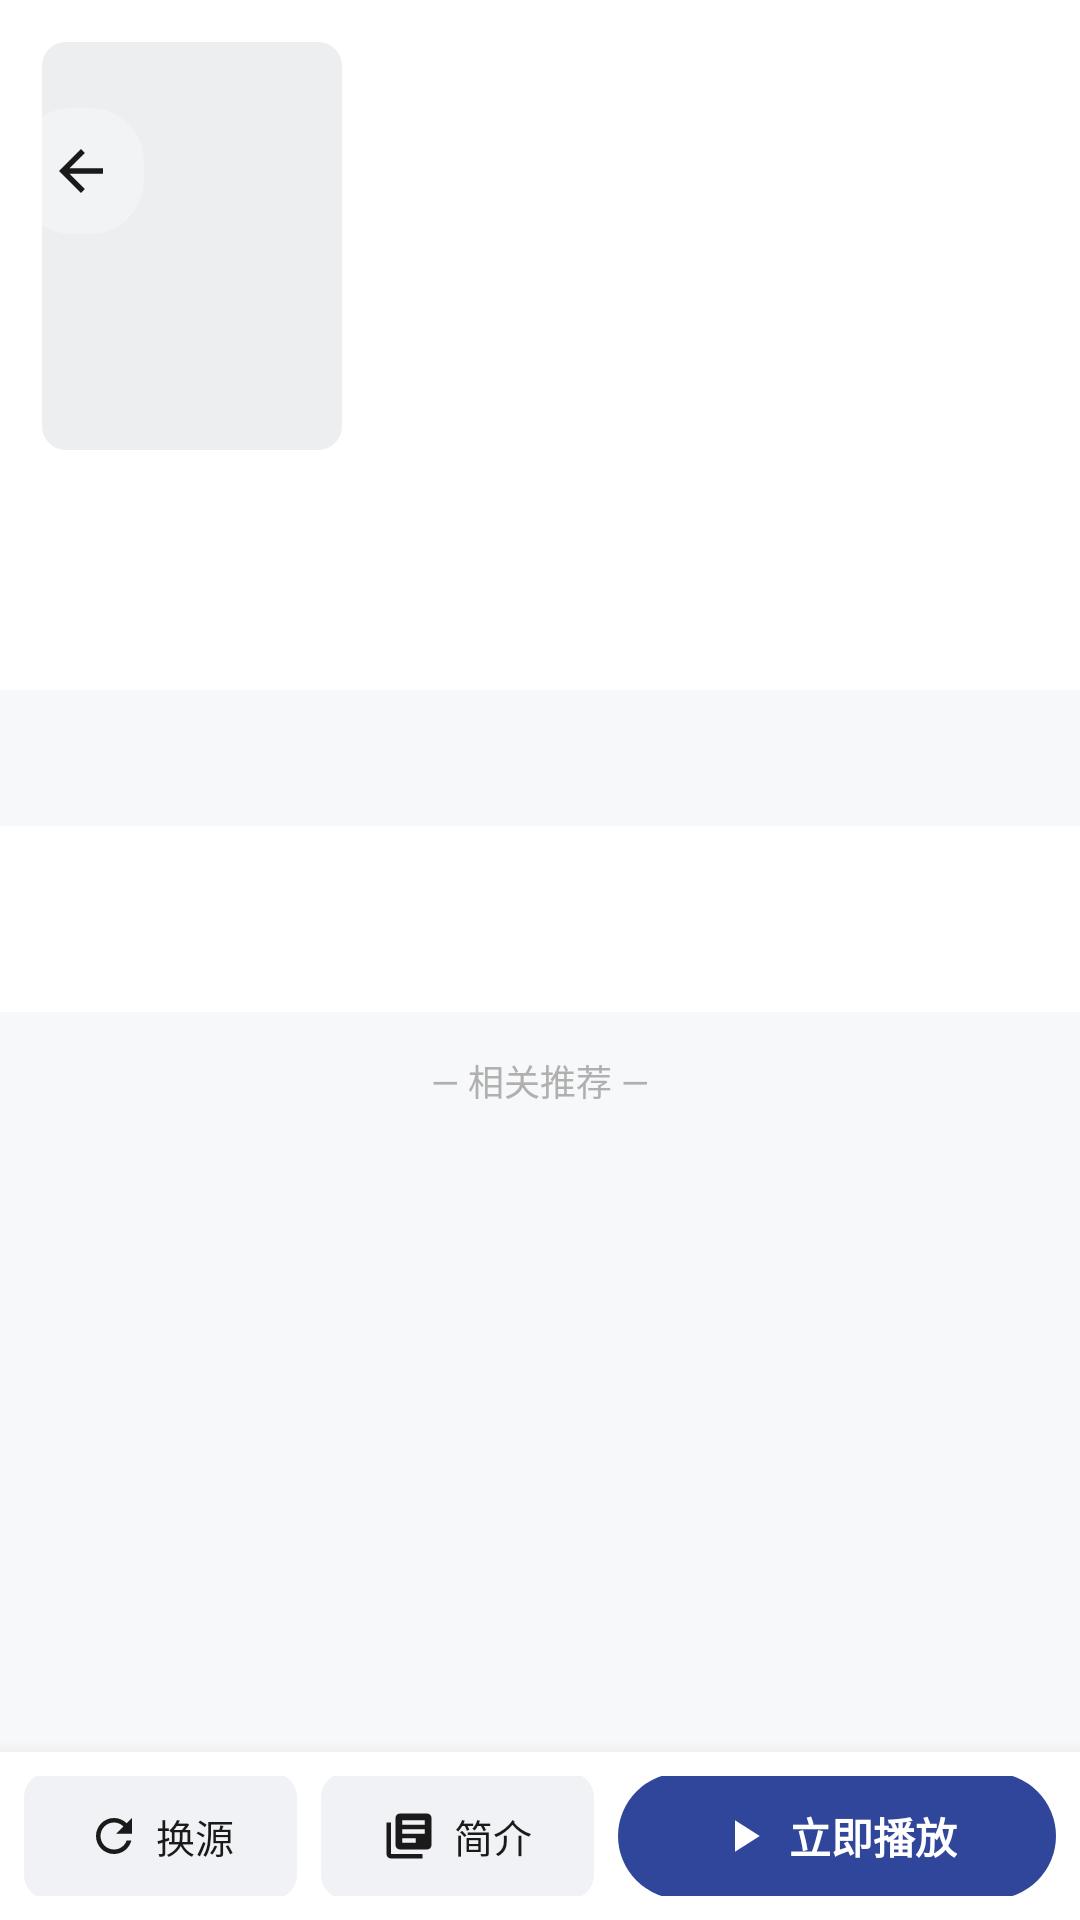

Locate icon controls on the screen. Image size 1080 × 1920, boxes as bbox=(x1, y1, x2, y2).
back: bbox=(59, 149, 103, 193)
episodes: bbox=(386, 1813, 432, 1859)
